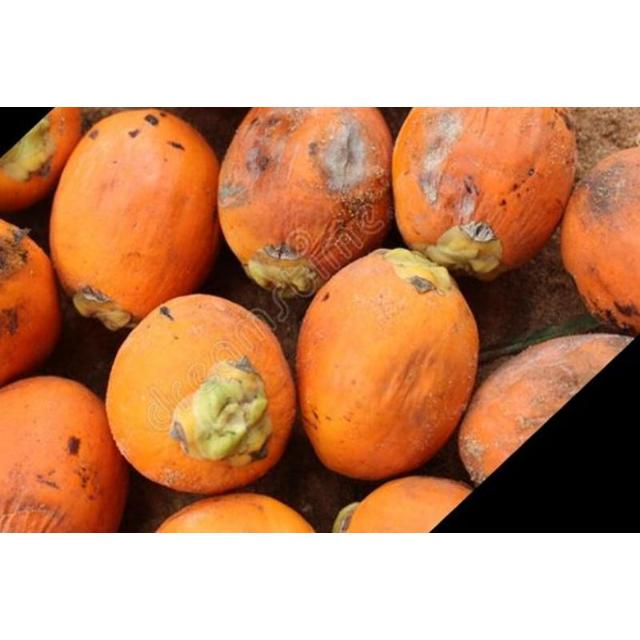good: (285, 238, 483, 482), (33, 116, 239, 340), (103, 284, 295, 500), (183, 115, 391, 291), (456, 306, 640, 482), (378, 107, 564, 281), (1, 361, 148, 529), (544, 159, 640, 337), (0, 216, 54, 396)
